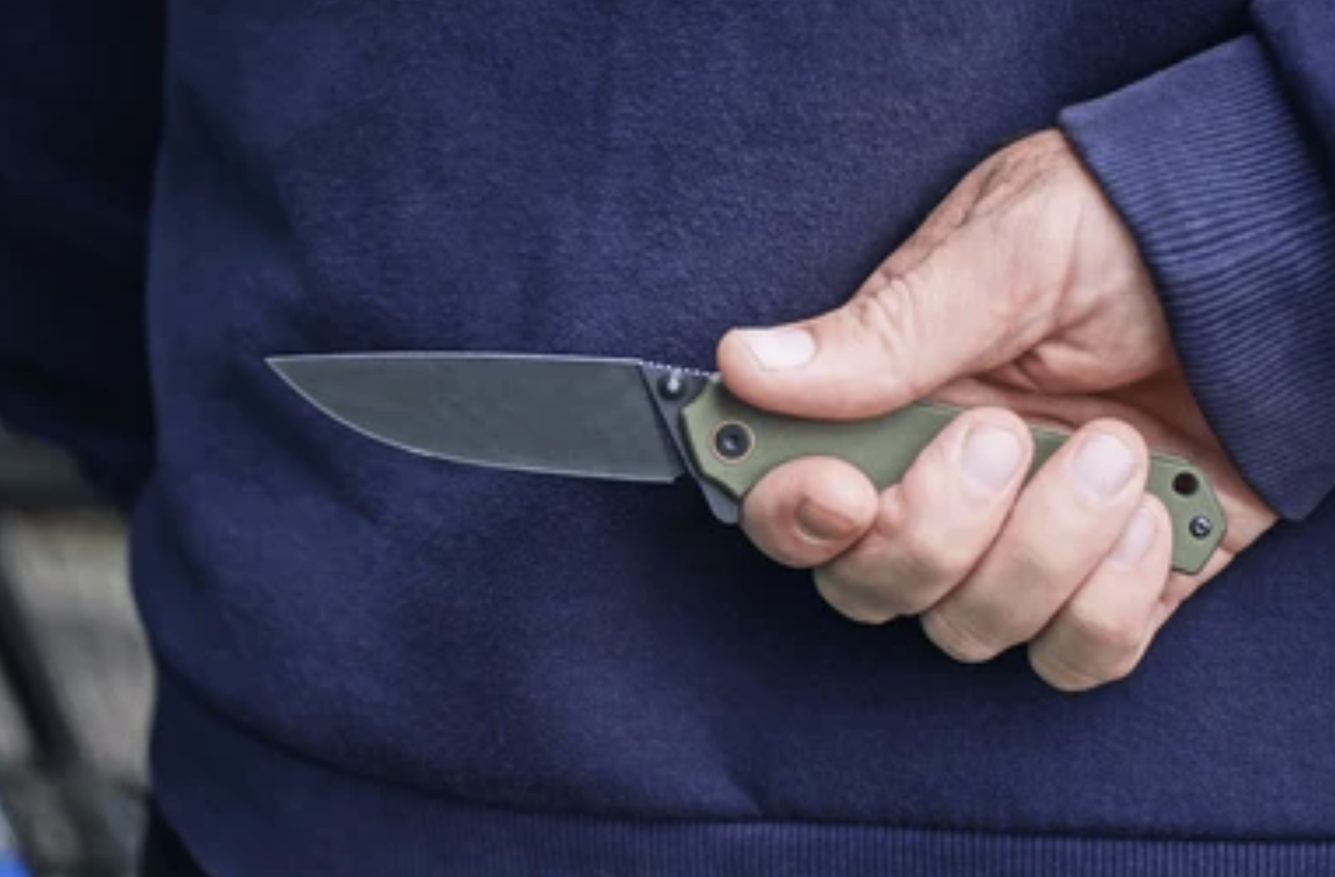knife_59.png: (247, 330, 1253, 589)
